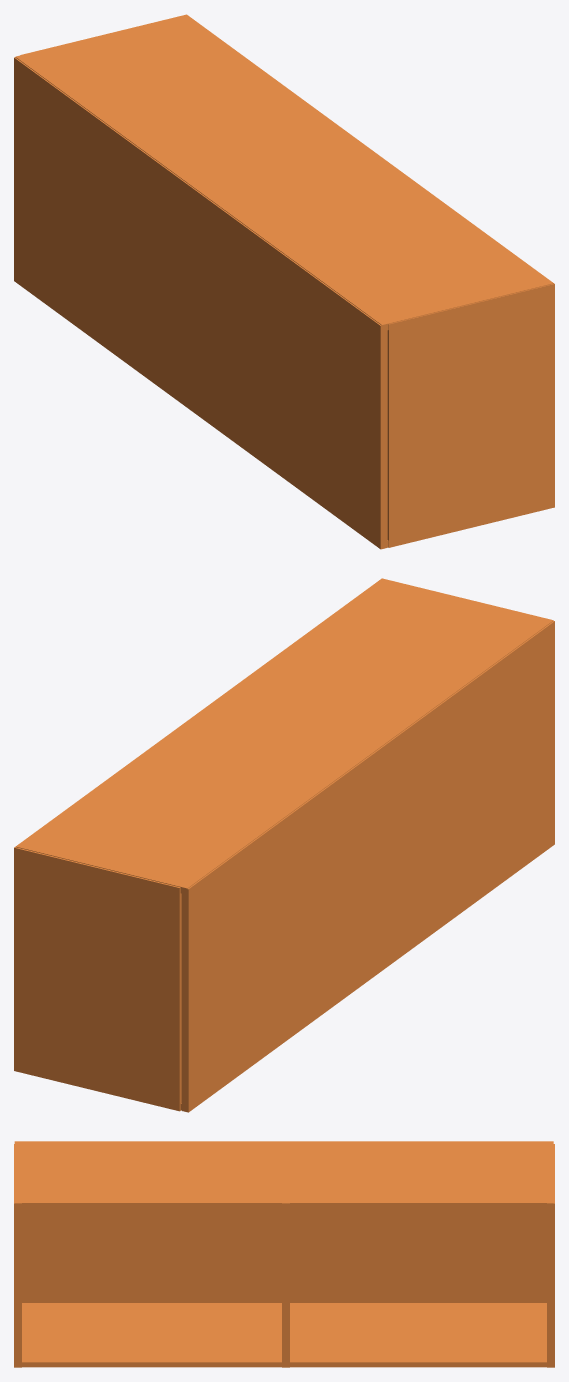
File: Gym_Shelf.fbx
3 views of the same model, one above another, from view 1: azimuth 30°, elevation 25°; view 2: azimuth 150°, elevation 25°; view 3: azimuth 270°, elevation 25° (orthographic). The views are drawn at different scales.
Visible parts, largest first — view 1: Gym_Shelf; view 2: Gym_Shelf; view 3: Gym_Shelf.
Part boxes in pixels (x1,y1,x2,y2): Gym_Shelf: (14,14,554,549); Gym_Shelf: (14,578,554,1112); Gym_Shelf: (14,1141,554,1367).
Bounding box in the file's own units: 59.83 × 73.72 × 220.
